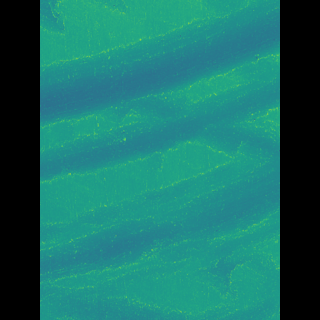Loch: (69, 140, 251, 299), (69, 0, 250, 129), (70, 71, 250, 184)
